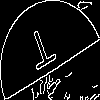T: (25, 25, 60, 79)
